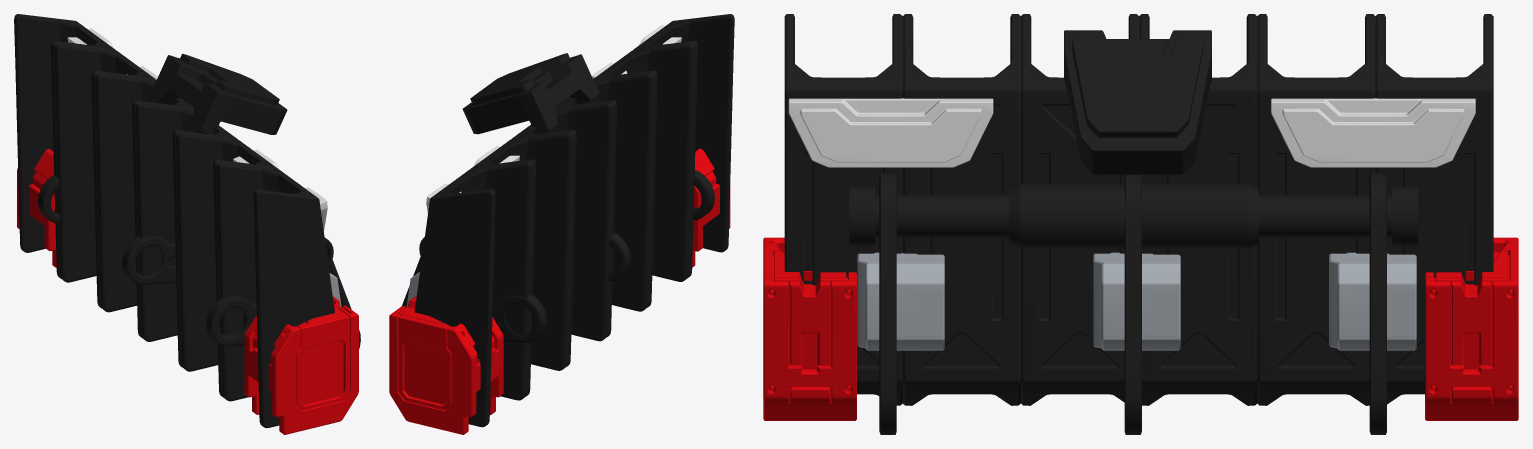
The model's file is machine_b.fbx.
The picture shows the model from 3 angles, left to right: view 1: azimuth 30°, elevation 25°; view 2: azimuth 150°, elevation 25°; view 3: azimuth 270°, elevation 25°; orthographic projection. The views are drawn at different scales.
Parts seen in each view (by area): view 1: machine_b; view 2: machine_b; view 3: machine_b.
Boxes of the visible parts, x1,y1,x2,y2 form: machine_b: (14, 14, 360, 434); machine_b: (389, 14, 734, 434); machine_b: (763, 14, 1518, 434).
Size of the model in its own units: 299 by 496 by 897.
